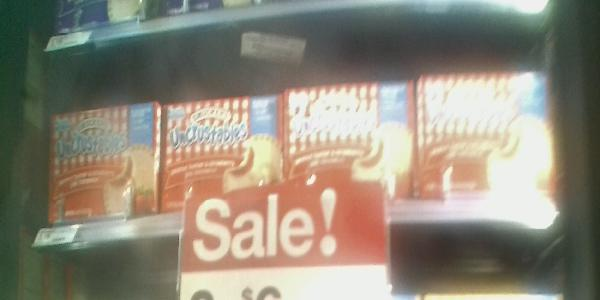icecream: (420, 69, 552, 199), (287, 81, 415, 197), (160, 98, 286, 209), (46, 103, 159, 221)
